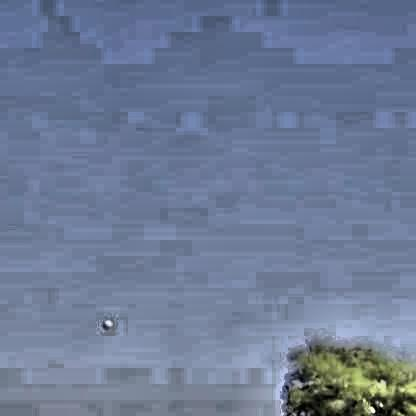golfball: (99, 315, 110, 327)
